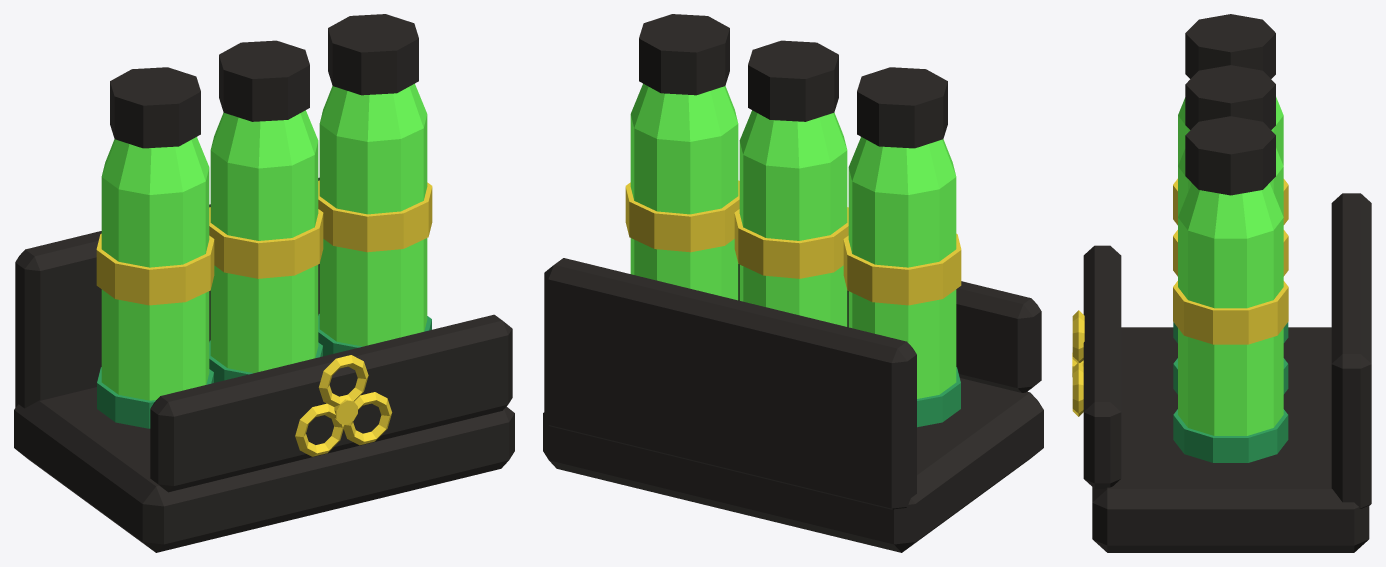
File: biotech.glb
The picture shows the model from 3 angles, left to right: view 1: azimuth 30°, elevation 25°; view 2: azimuth 150°, elevation 25°; view 3: azimuth 270°, elevation 25°; orthographic projection. The views are drawn at different scales.
Parts seen in each view (by area): view 1: biotech-rack-base, biotech-rack-front-plaque, biotech-green-vial-0, biotech-green-vial-1, biotech-green-vial-2, biotech-rack-back, biotech-black-cap-1, biotech-black-cap-2, biotech-black-cap-0, biotech-yellow-band-0, biotech-vial-shoulder-0, biotech-vial-shoulder-1 (+9 smaller); view 2: biotech-rack-back, biotech-rack-base, biotech-green-vial-0, biotech-green-vial-1, biotech-green-vial-2, biotech-rack-front-plaque, biotech-black-cap-1, biotech-black-cap-2, biotech-black-cap-0, biotech-yellow-band-0, biotech-vial-shoulder-0, biotech-vial-shoulder-1 (+4 smaller); view 3: biotech-rack-base, biotech-green-vial-2, biotech-rack-back, biotech-rack-front-plaque, biotech-black-cap-2, biotech-black-cap-1, biotech-black-cap-0, biotech-yellow-band-2, biotech-vial-shoulder-2, biotech-green-glass-rim-2, biotech-green-vial-1, biotech-green-vial-0 (+4 smaller).
Boxes of the visible parts, <box> form: biotech-rack-base: <box>14,387,514,552</box>; biotech-rack-front-plaque: <box>150,314,512,492</box>; biotech-green-vial-0: <box>101,168,209,400</box>; biotech-green-vial-1: <box>210,141,318,372</box>; biotech-green-vial-2: <box>319,115,427,346</box>; biotech-rack-back: <box>15,177,319,408</box>; biotech-black-cap-1: <box>219,40,309,121</box>; biotech-black-cap-2: <box>328,14,418,95</box>; biotech-black-cap-0: <box>110,67,200,148</box>; biotech-yellow-band-0: <box>96,233,214,305</box>; biotech-vial-shoulder-0: <box>101,137,209,194</box>; biotech-vial-shoulder-1: <box>210,110,318,168</box>; biotech-rack-back: <box>544,258,916,509</box>; biotech-rack-base: <box>543,378,1043,552</box>; biotech-green-vial-0: <box>848,168,956,398</box>; biotech-green-vial-1: <box>739,141,847,326</box>; biotech-green-vial-2: <box>630,115,738,300</box>; biotech-rack-front-plaque: <box>738,264,1041,392</box>; biotech-black-cap-1: <box>748,40,838,121</box>; biotech-black-cap-2: <box>639,14,729,95</box>; biotech-black-cap-0: <box>857,67,947,148</box>; biotech-yellow-band-0: <box>843,233,961,305</box>; biotech-vial-shoulder-0: <box>848,137,956,194</box>; biotech-vial-shoulder-1: <box>739,110,847,168</box>; biotech-rack-base: <box>1092,327,1369,552</box>; biotech-green-vial-2: <box>1178,218,1283,435</box>; biotech-rack-back: <box>1331,193,1371,508</box>; biotech-rack-front-plaque: <box>1083,245,1121,488</box>; biotech-black-cap-2: <box>1185,116,1275,195</box>; biotech-black-cap-1: <box>1185,65,1275,129</box>; biotech-black-cap-0: <box>1185,14,1275,78</box>; biotech-yellow-band-2: <box>1173,281,1288,344</box>; biotech-vial-shoulder-2: <box>1178,183,1283,238</box>; biotech-green-glass-rim-2: <box>1173,409,1288,462</box>; biotech-green-vial-1: <box>1178,167,1283,216</box>; biotech-green-vial-0: <box>1178,116,1283,165</box>.
Size of the model in its own units: 0.9647 by 1 by 0.7.
